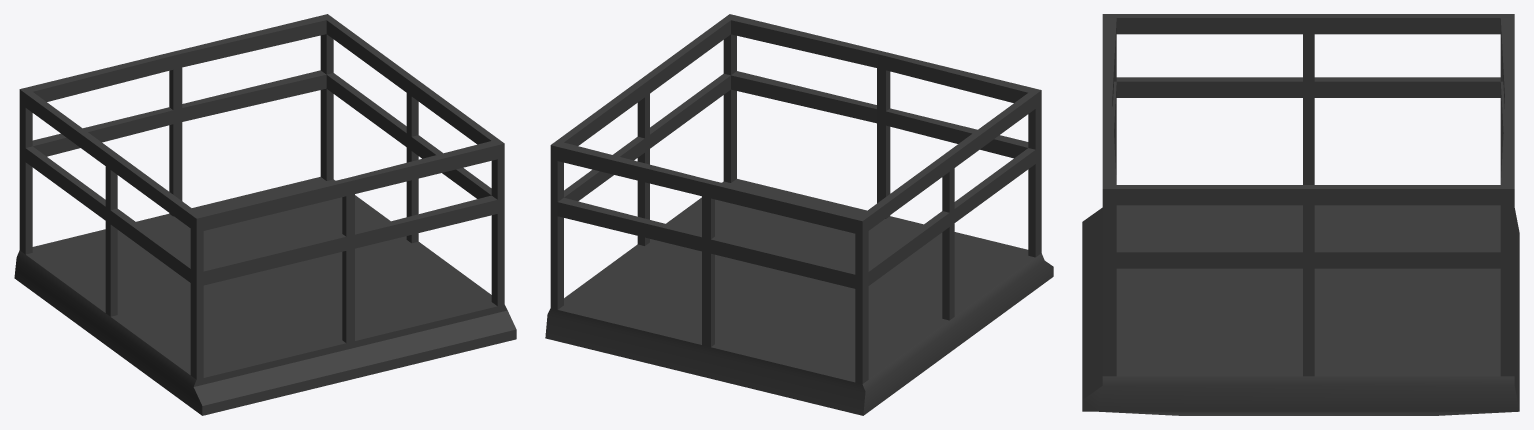
The model's file is Crane.fbx.
The picture shows the model from 3 angles, left to right: view 1: azimuth 30°, elevation 25°; view 2: azimuth 150°, elevation 25°; view 3: azimuth 270°, elevation 25°; orthographic projection. The views are drawn at different scales.
Visible parts, largest first — view 1: crane; view 2: crane; view 3: crane.
Boxes of the visible parts, <box> form: crane: <box>14,14,516,415</box>; crane: <box>545,14,1053,415</box>; crane: <box>1082,14,1519,415</box>.
Size of the model in its own units: 129 by 88.11 by 134.
